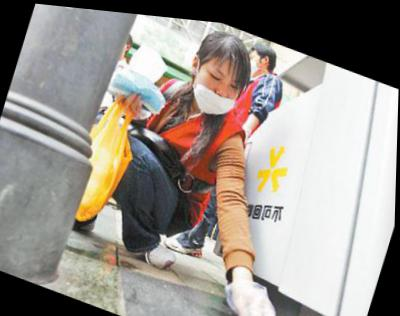OK: (242, 44, 270, 78)
WRONG: (193, 59, 247, 116)
